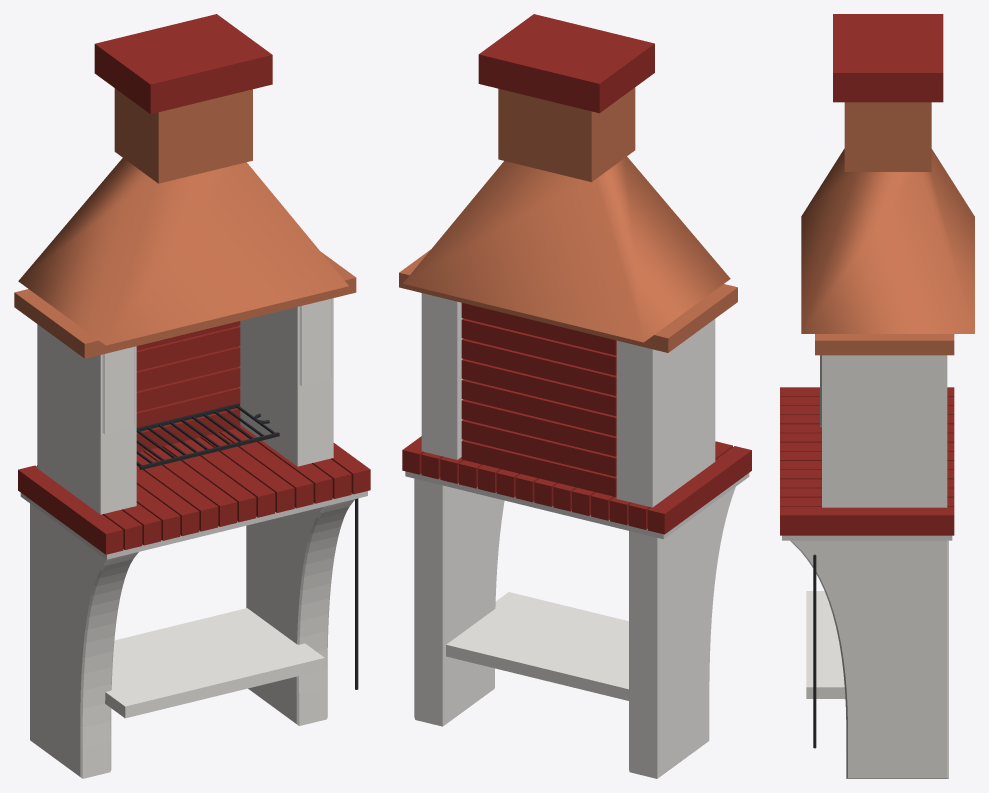
Rendered from BARBACUE3.glb.
The picture shows the model from 3 angles, left to right: view 1: azimuth 30°, elevation 25°; view 2: azimuth 150°, elevation 25°; view 3: azimuth 270°, elevation 25°; orthographic projection.
Visible parts, largest first — view 1: hood-hotte, leg-0, shelf-tablette, leg-1, pilastre-0, hood-chapeau, pilastre-1, hood-conduit, hood-linteau, brick-0, console-0, console-1 (+21 smaller); view 2: hood-hotte, leg-0, leg-1, pilastre-0, shelf-tablette, hood-chapeau, hood-conduit, pilastre-1, hood-linteau, brick-0, brick-fond-4, brick-fond-0 (+9 smaller); view 3: leg-1, hood-hotte, pilastre-1, hood-chapeau, hood-conduit, brick-13, shelf-tablette, hood-linteau, counter-sous-face, outil-tisonnier, brick-5, brick-11 (+11 smaller).
Boxes of the visible parts, left/top/right/bottom form: hood-hotte: left=18, top=158, right=348, bottom=345; leg-0: left=30, top=503, right=138, bottom=778; shelf-tablette: left=105, top=608, right=324, bottom=718; leg-1: left=246, top=499, right=355, bottom=725; pilastre-0: left=37, top=324, right=136, bottom=514; hood-chapeau: left=94, top=14, right=272, bottom=114; pilastre-1: left=239, top=298, right=333, bottom=466; hood-conduit: left=114, top=88, right=252, bottom=183; hood-linteau: left=14, top=252, right=356, bottom=358; brick-0: left=18, top=465, right=123, bottom=554; console-0: left=102, top=346, right=134, bottom=434; console-1: left=299, top=298, right=331, bottom=386; hood-hotte: left=403, top=156, right=730, bottom=342; leg-0: left=629, top=487, right=735, bottom=778; leg-1: left=414, top=478, right=504, bottom=726; pilastre-0: left=616, top=319, right=715, bottom=507; shelf-tablette: left=446, top=592, right=628, bottom=700; hood-chapeau: left=478, top=14, right=654, bottom=113; hood-conduit: left=498, top=87, right=635, bottom=181; pilastre-1: left=421, top=293, right=462, bottom=459; hood-linteau: left=399, top=249, right=737, bottom=352; brick-0: left=647, top=446, right=751, bottom=534; brick-fond-4: left=461, top=359, right=616, bottom=415; brick-fond-0: left=461, top=439, right=616, bottom=496; leg-1: left=790, top=540, right=948, bottom=778; hood-hotte: left=801, top=148, right=974, bottom=333; pilastre-1: left=822, top=355, right=947, bottom=507; hood-chapeau: left=833, top=14, right=943, bottom=102; hood-conduit: left=844, top=102, right=931, bottom=171; brick-13: left=780, top=506, right=954, bottom=535; shelf-tablette: left=806, top=591, right=845, bottom=698; hood-linteau: left=815, top=334, right=954, bottom=355; counter-sous-face: left=782, top=535, right=952, bottom=540; outil-tisonnier: left=813, top=554, right=816, bottom=748; brick-5: left=780, top=433, right=954, bottom=442; brick-11: left=780, top=488, right=954, bottom=497.
Bounding box in the file's own units: 0.96 × 2.3 × 0.6.
